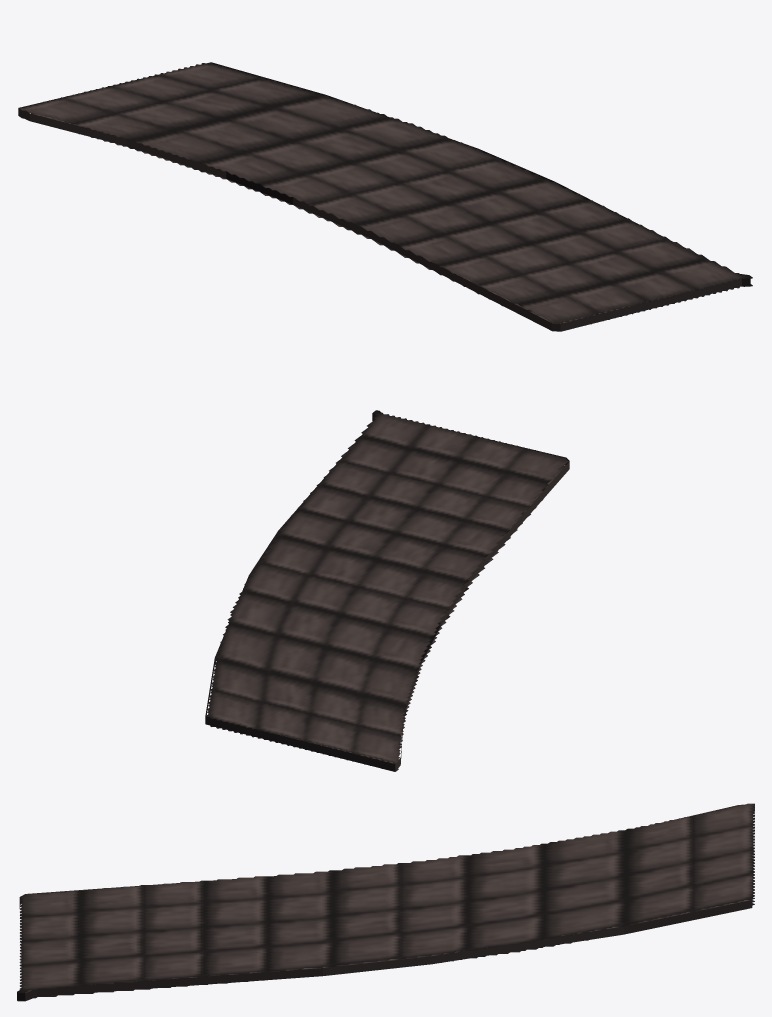
The model's file is pz_native_location_community_church_small_01_200_frame.obj.
The picture shows the model from 3 angles, top to bottom: view 1: azimuth 30°, elevation 25°; view 2: azimuth 150°, elevation 25°; view 3: azimuth 270°, elevation 25°; orthographic projection. The views are drawn at different scales.
Visible parts, largest first — view 1: pz_native_location_community_church_small_01_200_frame; view 2: pz_native_location_community_church_small_01_200_frame; view 3: pz_native_location_community_church_small_01_200_frame.
Boxes of the visible parts, x1,y1,x2,y2 form: pz_native_location_community_church_small_01_200_frame: [18, 62, 752, 331]; pz_native_location_community_church_small_01_200_frame: [205, 410, 569, 771]; pz_native_location_community_church_small_01_200_frame: [17, 803, 754, 1001].
Size of the model in its own units: 2.03 by 0.04 by 3.32.
Materials: 1 (1 with a texture image).
